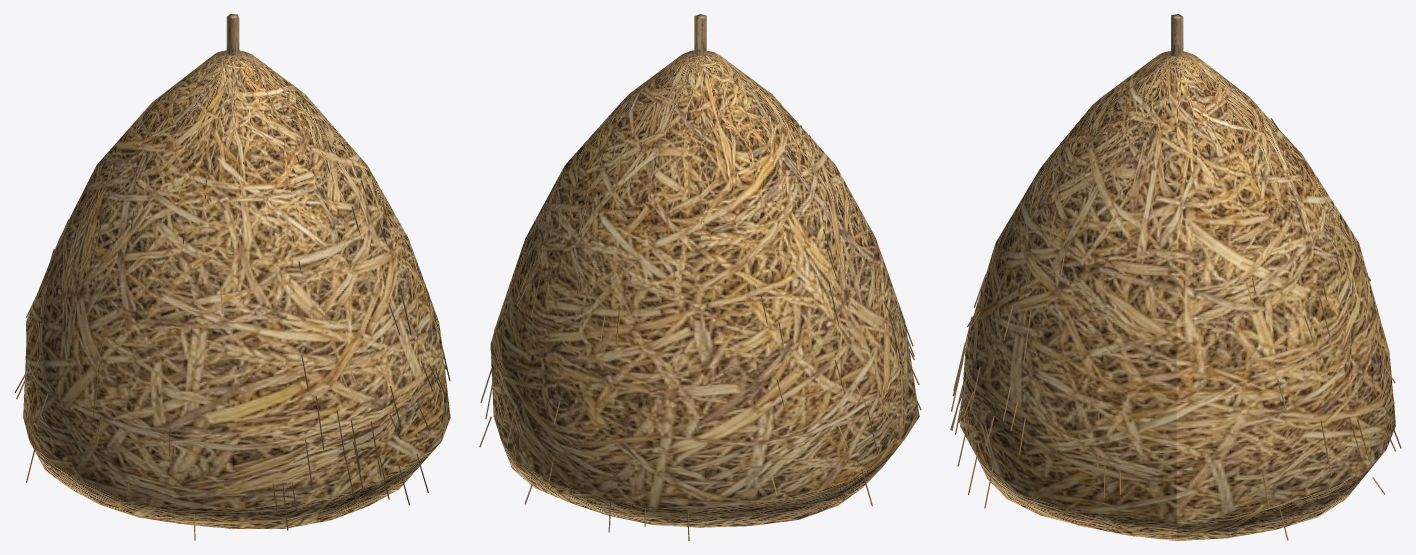
File: prop_haystack_lod1.glb
3 renders of one model, left to right at view 1: azimuth 30°, elevation 25°; view 2: azimuth 150°, elevation 25°; view 3: azimuth 270°, elevation 25°, orthographic. The views are drawn at different scales.
Visible parts, largest first — view 1: prop_haystack; view 2: prop_haystack; view 3: prop_haystack.
Boxes of the visible parts, x1,y1,x2,y2 form: prop_haystack: [14, 14, 450, 540]; prop_haystack: [479, 14, 921, 540]; prop_haystack: [950, 14, 1401, 540].
Bounding box in the file's own units: 2.31 × 2.5 × 2.32.
Materials: 2 (2 with a texture image).
